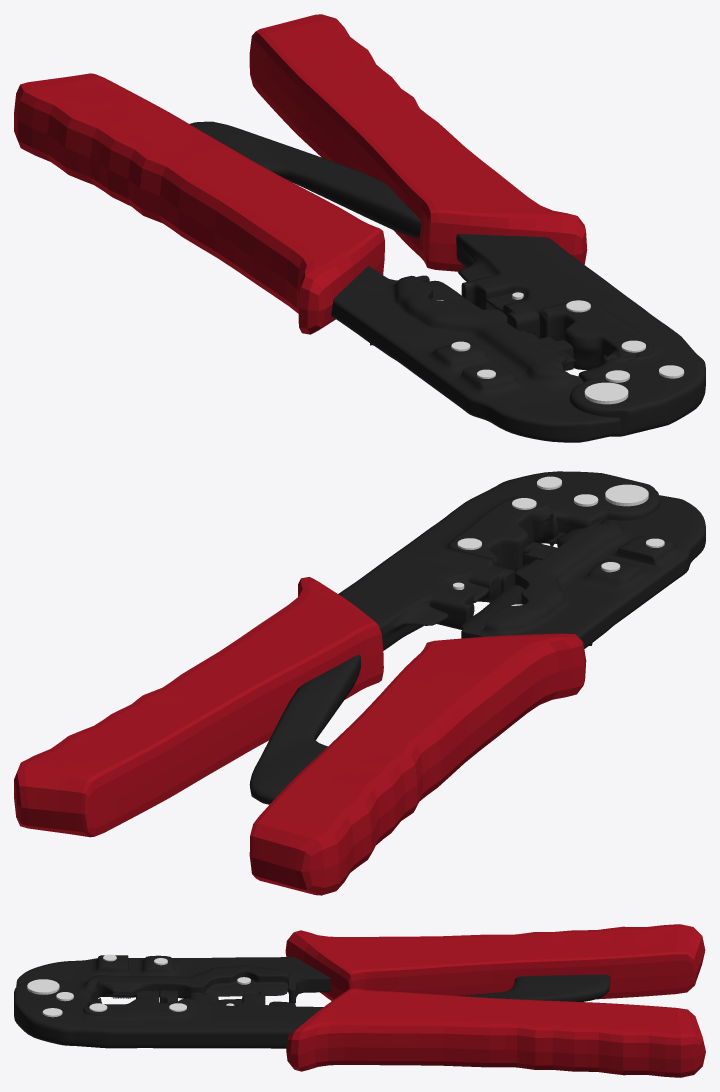
File: new crimper (with details).fbx
3 renders of one model, top to bottom at view 1: azimuth 30°, elevation 25°; view 2: azimuth 150°, elevation 25°; view 3: azimuth 270°, elevation 25°, orthographic. The views are drawn at different scales.
Parts seen in each view (by area): view 1: Plane.002, Plane, Plane.001, Cylinder.004; view 2: Plane.002, Plane, Plane.001, Cylinder.004; view 3: Plane.002, Plane, Plane.001, Cylinder.004.
Part boxes in pixels (box(x1,y1,x2,y2)): Plane.002: box(14, 14, 587, 334); Plane: box(189, 121, 705, 436); Plane.001: box(331, 266, 620, 442); Cylinder.004: box(584, 382, 628, 404); Plane.002: box(14, 577, 586, 895); Plane: box(249, 471, 660, 804); Plane.001: box(461, 495, 705, 648); Cylinder.004: box(605, 484, 648, 506); Plane.002: box(285, 924, 705, 1077); Plane: box(14, 974, 610, 1048); Plane.001: box(16, 955, 331, 1003); Cylinder.004: box(27, 979, 59, 994).
Bounding box in the file's own units: 37.48 × 7.13 × 95.97.
